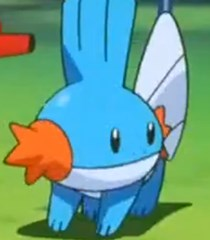mudkip: (10, 1, 192, 238)
